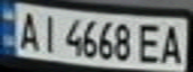4: (60, 15, 84, 56)
6: (78, 17, 100, 60), (97, 18, 118, 61)
8: (112, 19, 136, 63)
A: (157, 20, 187, 65), (12, 8, 42, 52)
E: (133, 20, 163, 64)
I: (36, 11, 60, 53)
